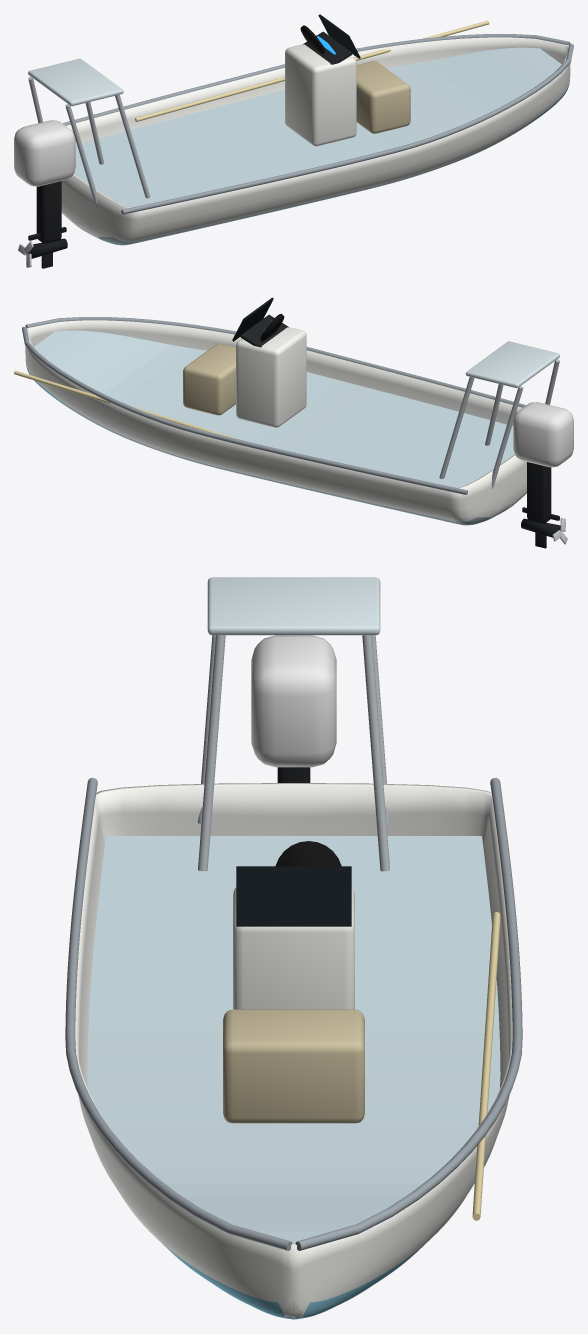
The model's file is skiff.glb.
The picture shows the model from 3 angles, top to bottom: view 1: azimuth 30°, elevation 25°; view 2: azimuth 150°, elevation 25°; view 3: azimuth 270°, elevation 25°; orthographic projection. The views are drawn at different scales.
Parts seen in each view (by area): view 1: deck, hull, console, outboard_cowl, cooler_seat, gunwale.001, pp_top, gunwale, outboard_mid, pushpole, console_dash, pp_leg.001 (+4 smaller); view 2: deck, hull, console, outboard_cowl, cooler_seat, gunwale, pp_top, gunwale.001, outboard_mid, pushpole, console_dash, pp_leg (+4 smaller); view 3: deck, hull, cooler_seat, outboard_cowl, console, pp_top, console_glass, gunwale, gunwale.001, pushpole, pp_leg, pp_leg.001 (+1 smaller).
Part boxes in pixels (x1=…): deck: x1=74, y1=47, x2=561, y2=207; hull: x1=61, y1=37, x2=570, y2=245; console: x1=285, y1=44, x2=356, y2=146; outboard_cowl: x1=14, y1=120, x2=75, y2=186; cooler_seat: x1=356, y1=61, x2=410, y2=133; gunwale.001: x1=121, y1=43, x2=573, y2=214; pp_top: x1=28, y1=58, x2=123, y2=106; gunwale: x1=62, y1=34, x2=570, y2=125; outboard_mid: x1=36, y1=181, x2=61, y2=243; pushpole: x1=135, y1=20, x2=489, y2=121; console_dash: x1=303, y1=31, x2=352, y2=64; pp_leg.001: x1=115, y1=94, x2=150, y2=198; deck: x1=34, y1=330, x2=514, y2=487; hull: x1=25, y1=320, x2=526, y2=525; console: x1=236, y1=327, x2=306, y2=427; outboard_cowl: x1=513, y1=402, x2=573, y2=467; cooler_seat: x1=183, y1=343, x2=235, y2=415; gunwale: x1=22, y1=326, x2=467, y2=494; pp_top: x1=465, y1=341, x2=559, y2=388; gunwale.001: x1=25, y1=317, x2=525, y2=407; outboard_mid: x1=527, y1=462, x2=551, y2=523; pushpole: x1=14, y1=370, x2=241, y2=440; console_dash: x1=240, y1=314, x2=288, y2=347; pp_leg: x1=439, y1=377, x2=474, y2=478; deck: x1=87, y1=836, x2=500, y2=1242; hull: x1=75, y1=783, x2=512, y2=1319; cooler_seat: x1=223, y1=1009, x2=364, y2=1123; outboard_cowl: x1=251, y1=635, x2=336, y2=767; console: x1=233, y1=887, x2=354, y2=1009; pp_top: x1=207, y1=577, x2=380, y2=635; console_glass: x1=236, y1=866, x2=351, y2=926; gunwale: x1=295, y1=777, x2=522, y2=1250; gunwale.001: x1=65, y1=777, x2=292, y2=1250; pushpole: x1=472, y1=912, x2=500, y2=1220; pp_leg: x1=362, y1=635, x2=389, y2=871; pp_leg.001: x1=198, y1=635, x2=225, y2=871.
Size of the model in its own units: 6.2 by 1.94 by 2.25.
